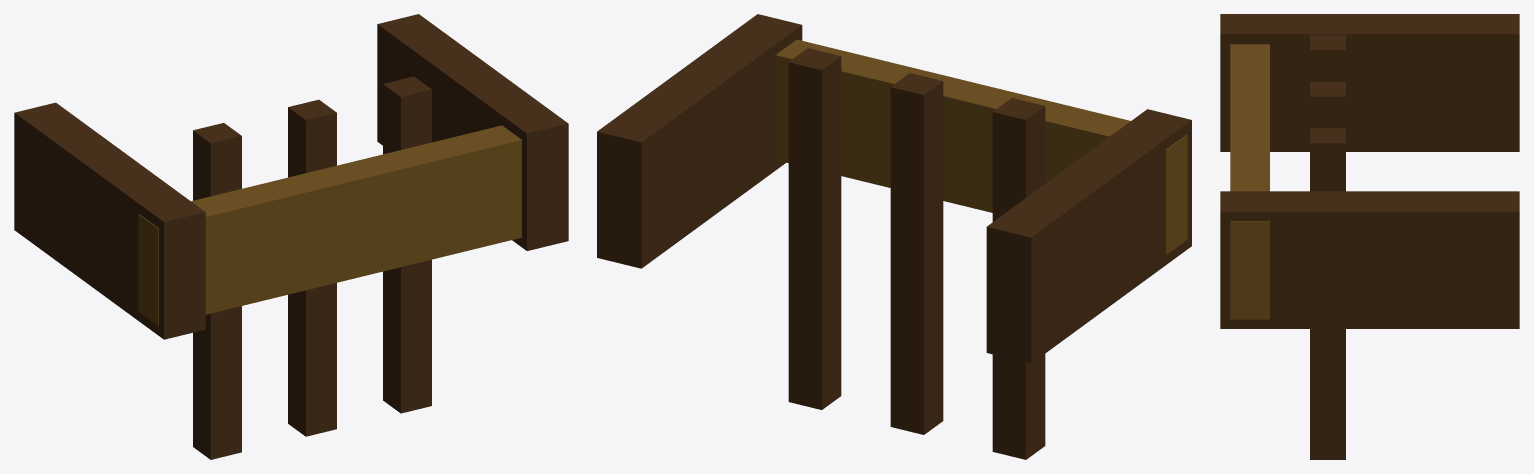
The model's file is SM_AnduinOarRack.obj.
3 renders of one model, left to right at view 1: azimuth 30°, elevation 25°; view 2: azimuth 150°, elevation 25°; view 3: azimuth 270°, elevation 25°, orthographic. The views are drawn at different scales.
Parts seen in each view (by area): view 1: SM_AnduinOarRack; view 2: SM_AnduinOarRack; view 3: SM_AnduinOarRack.
Boxes of the visible parts, x1,y1,x2,y2 form: SM_AnduinOarRack: (14,14,568,459); SM_AnduinOarRack: (597,14,1191,459); SM_AnduinOarRack: (1220,14,1519,459).
Bounding box in the file's own units: 235 × 175 × 150.
